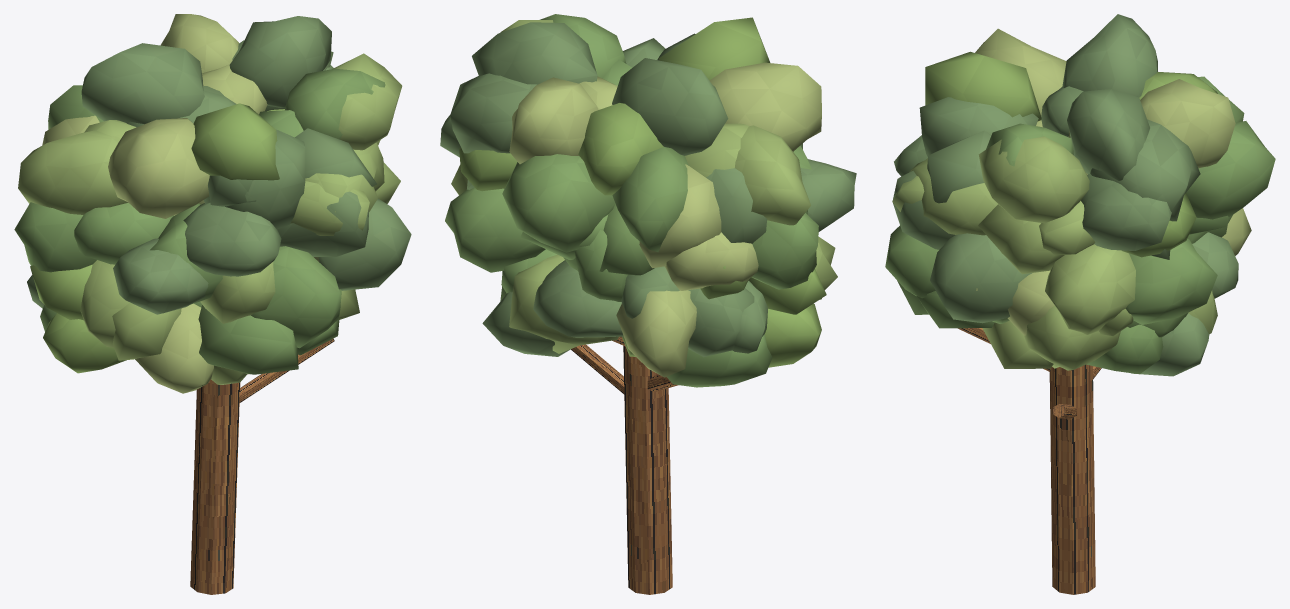
File: broadleaf.glb
The picture shows the model from 3 angles, left to right: view 1: azimuth 30°, elevation 25°; view 2: azimuth 150°, elevation 25°; view 3: azimuth 270°, elevation 25°; orthographic projection. The views are drawn at different scales.
Parts seen in each view (by area): view 1: broadleaf_leaf_4, broadleaf_leaf_2, broadleaf_leaf_1, broadleaf_leaf_3, broadleaf_leaf_0, broadleaf_trunk; view 2: broadleaf_leaf_4, broadleaf_leaf_2, broadleaf_leaf_3, broadleaf_leaf_0, broadleaf_trunk, broadleaf_leaf_1; view 3: broadleaf_leaf_4, broadleaf_leaf_1, broadleaf_leaf_2, broadleaf_leaf_3, broadleaf_trunk, broadleaf_leaf_0.
Boxes of the visible parts, <box> form: broadleaf_leaf_4: <box>27,16,411,314</box>; broadleaf_leaf_2: <box>14,68,385,374</box>; broadleaf_leaf_1: <box>18,53,402,384</box>; broadleaf_leaf_3: <box>42,14,319,393</box>; broadleaf_leaf_0: <box>30,103,284,373</box>; broadleaf_trunk: <box>190,338,334,594</box>; broadleaf_leaf_4: <box>440,22,856,357</box>; broadleaf_leaf_2: <box>445,14,818,387</box>; broadleaf_leaf_3: <box>509,62,821,377</box>; broadleaf_leaf_0: <box>459,17,826,367</box>; broadleaf_trunk: <box>571,336,678,594</box>; broadleaf_leaf_1: <box>451,20,837,353</box>; broadleaf_leaf_4: <box>893,14,1238,376</box>; broadleaf_leaf_1: <box>892,136,1217,370</box>; broadleaf_leaf_2: <box>885,76,1275,374</box>; broadleaf_leaf_3: <box>975,28,1251,335</box>; broadleaf_trunk: <box>958,328,1101,594</box>; broadleaf_leaf_0: <box>925,51,1217,257</box>.
Size of the model in its own units: 3.79 by 5.38 by 3.55.
Materials: 6 (1 with a texture image).
